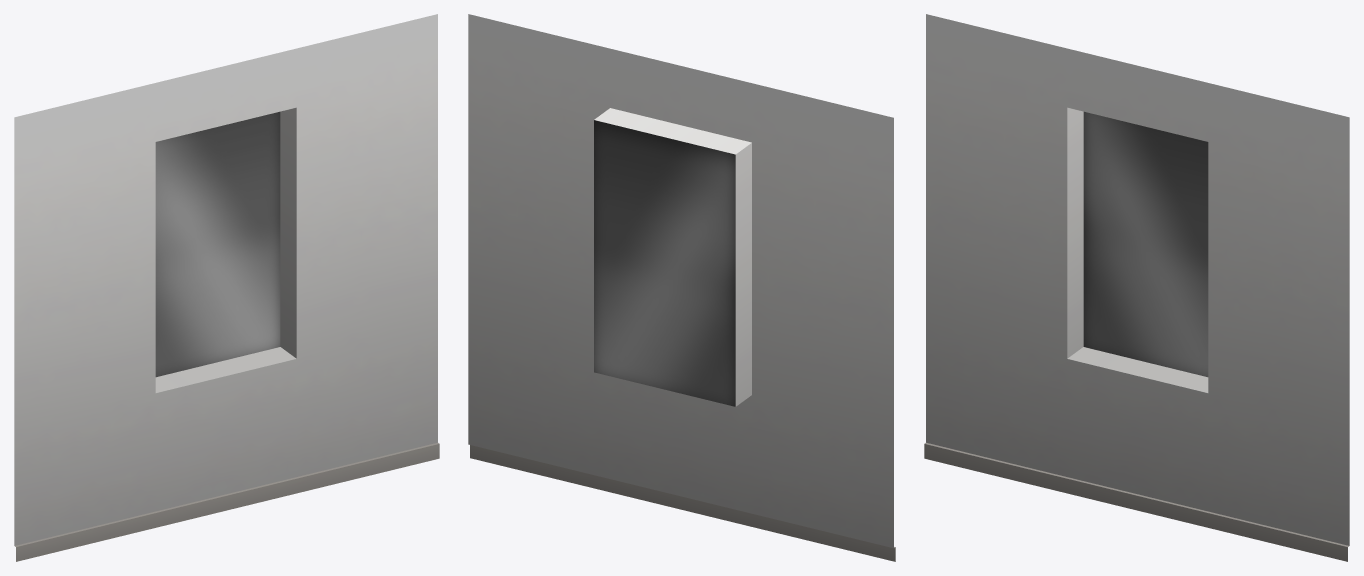
Rendered from Wall_3m_A_Window_A.fbx.
The picture shows the model from 3 angles, left to right: view 1: azimuth 30°, elevation 25°; view 2: azimuth 150°, elevation 25°; view 3: azimuth 330°, elevation 25°; orthographic projection.
Visible parts, largest first — view 1: Wall_3m_A_Window_A; view 2: Wall_3m_A_Window_A; view 3: Wall_3m_A_Window_A.
Boxes of the visible parts, x1,y1,x2,y2 form: Wall_3m_A_Window_A: [14, 14, 439, 561]; Wall_3m_A_Window_A: [468, 14, 895, 561]; Wall_3m_A_Window_A: [924, 14, 1349, 561].
Bounding box in the file's own units: 300 × 300 × 22.
